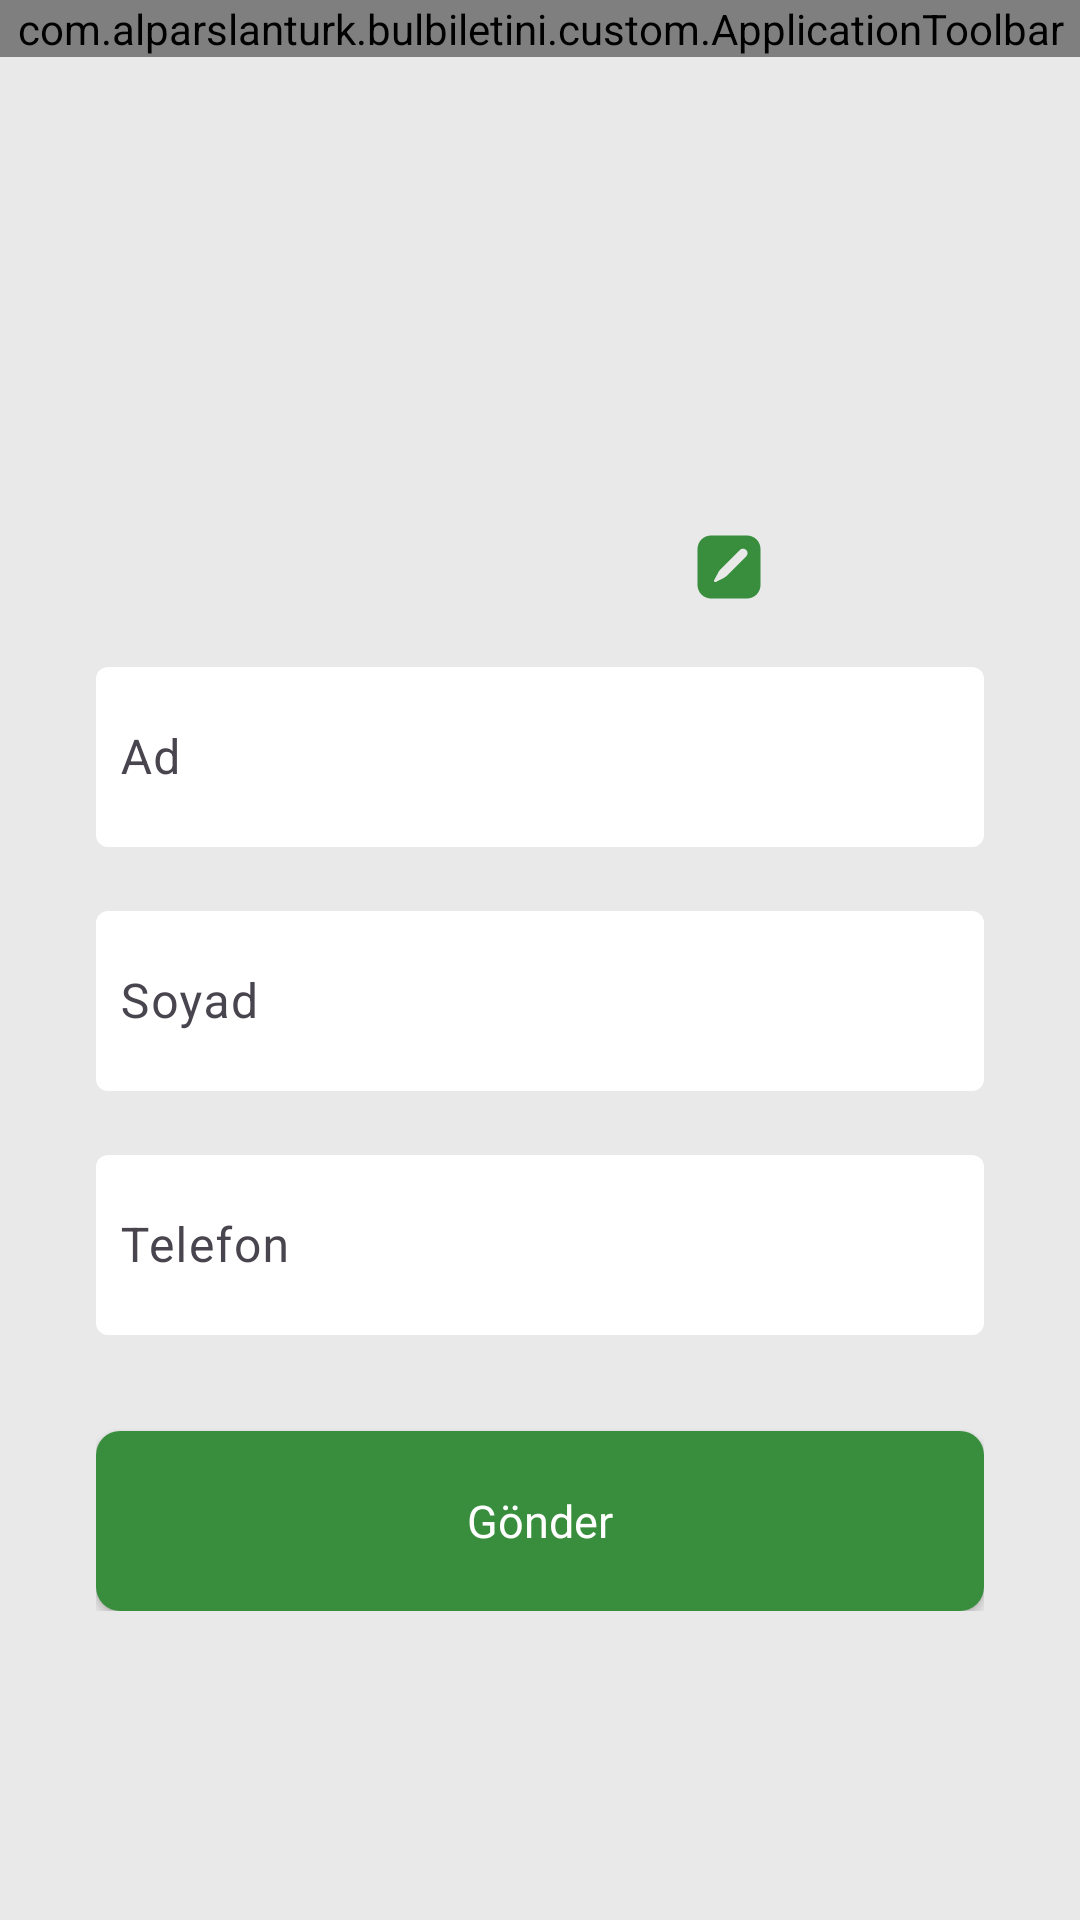

Icon bounding boxes for this 1080px×1920px phone screenshot, format (x1, y1, x2, y2):
edit: (697, 535, 761, 599)
